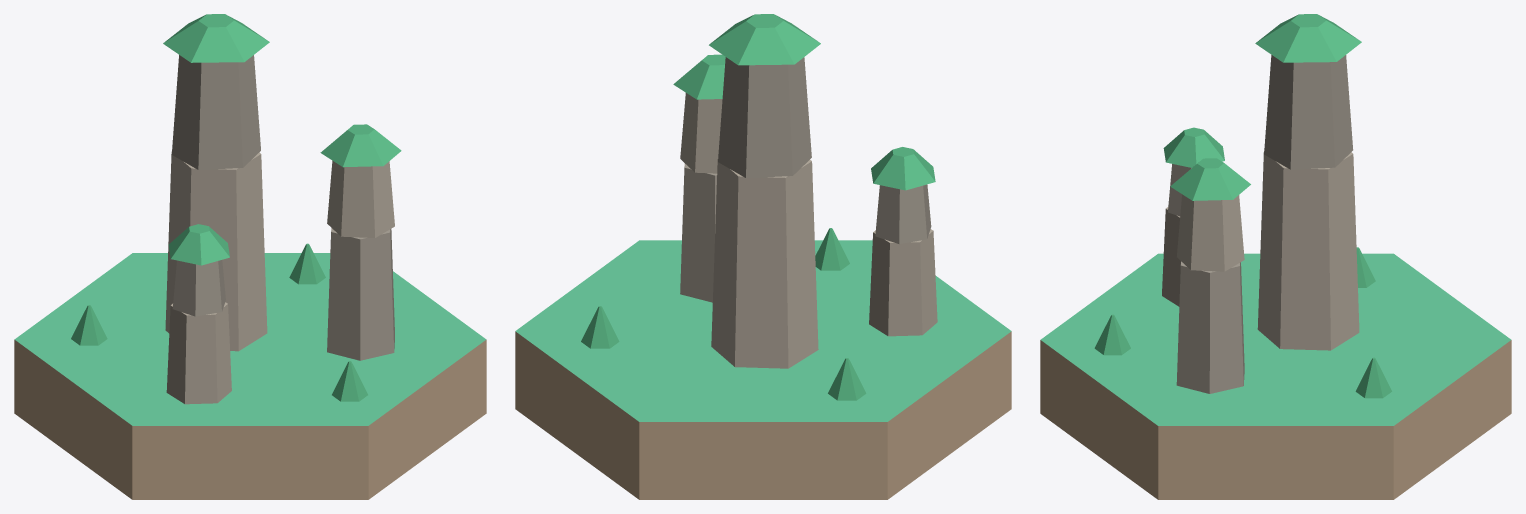
File: karst-small.glb
3 renders of one model, left to right at view 1: azimuth 30°, elevation 25°; view 2: azimuth 150°, elevation 25°; view 3: azimuth 270°, elevation 25°, orthographic. The views are drawn at different scales.
Parts seen in each view (by area): view 1: base, p1_lo, p1_hi, p2_lo, p3_lo, p2_hi, p1_cap, p3_hi, p2_cap, p3_cap, tree1, tree0 (+1 smaller); view 2: base, p1_lo, p1_hi, p3_lo, p2_lo, p1_cap, p3_hi, p2_hi, p3_cap, p2_cap, tree1, tree0 (+1 smaller); view 3: base, p1_lo, p1_hi, p2_lo, p2_hi, p1_cap, p2_cap, p3_cap, p3_lo, tree0, tree2, p3_hi.
Part boxes in pixels (<box>): base: <box>14,253,486,499</box>; p1_lo: <box>165,151,267,351</box>; p1_hi: <box>171,55,260,169</box>; p2_lo: <box>327,228,394,360</box>; p3_lo: <box>166,302,231,404</box>; p2_hi: <box>327,160,394,237</box>; p1_cap: <box>163,14,269,62</box>; p3_hi: <box>172,260,225,316</box>; p2_cap: <box>320,124,401,167</box>; p3_cap: <box>168,224,229,265</box>; tree1: <box>71,305,107,345</box>; tree0: <box>289,243,325,284</box>; base: <box>515,240,1011,499</box>; p1_lo: <box>711,158,818,368</box>; p1_hi: <box>718,57,811,177</box>; p3_lo: <box>869,229,937,336</box>; p2_lo: <box>680,163,717,302</box>; p1_cap: <box>709,14,820,65</box>; p3_hi: <box>875,184,931,243</box>; p2_hi: <box>680,93,722,173</box>; p3_cap: <box>871,147,935,190</box>; p2_cap: <box>673,54,725,99</box>; tree1: <box>828,358,866,400</box>; tree0: <box>581,306,619,348</box>; base: <box>1040,253,1511,499</box>; p1_lo: <box>1257,151,1359,350</box>; p1_hi: <box>1264,55,1353,169</box>; p2_lo: <box>1176,261,1244,393</box>; p2_hi: <box>1177,194,1244,271</box>; p1_cap: <box>1255,14,1361,62</box>; p2_cap: <box>1170,158,1250,200</box>; p3_cap: <box>1163,127,1224,167</box>; p3_lo: <box>1162,207,1180,306</box>; tree0: <box>1355,357,1391,398</box>; tree2: <box>1094,314,1130,355</box>; p3_hi: <box>1168,164,1191,216</box>.
Size of the model in its own units: 1 by 1.04 by 1.15.
